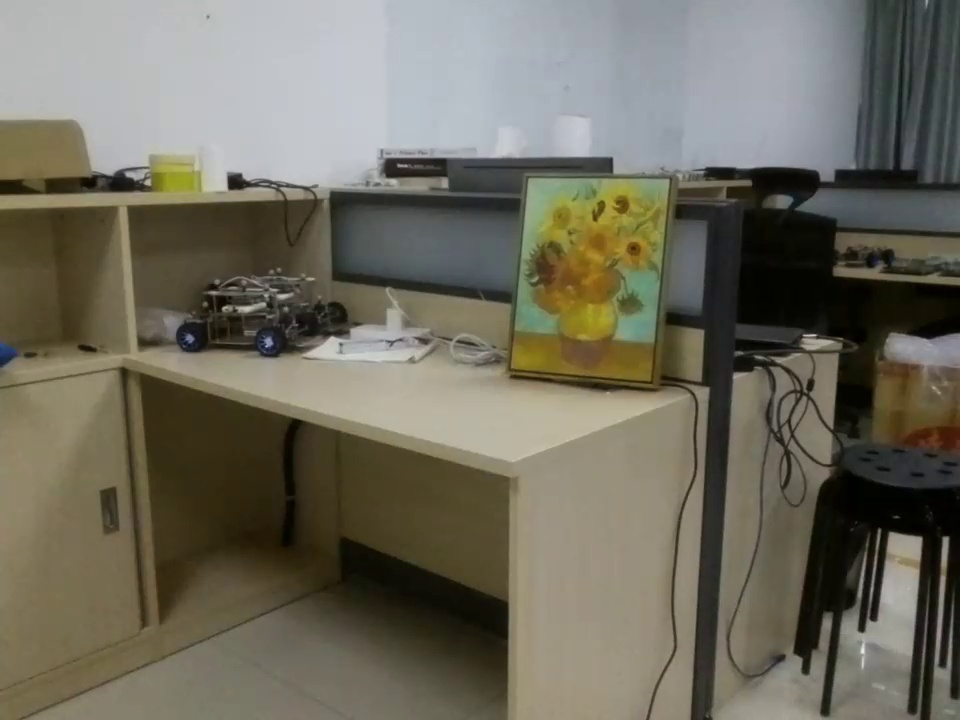painting: (511, 174, 679, 389)
